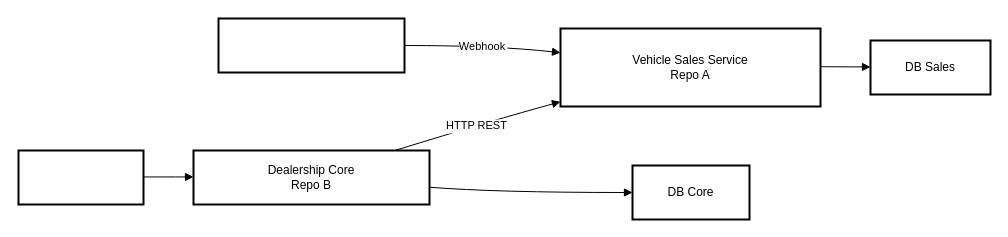
Image size: 1008x237. Some labels were removed from this diagram. Here are the shapes that lost their labels. From the top down, the centre of each, then its label:
At (311,45): "Payment Provider".
At (80,177): "Frontend".
